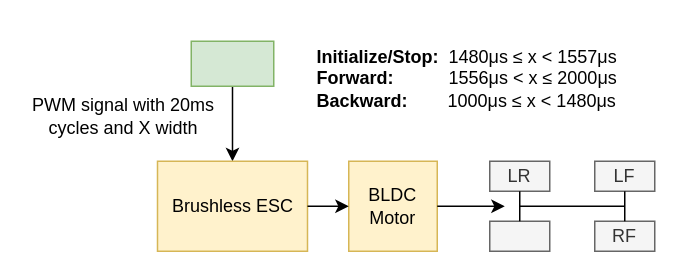
Image size: 684x278. Some labels were removed from this diagram. Each missing label, with the centre of its shape:
"Arduino" goes at [232,63].
"RR" goes at [519,235].
